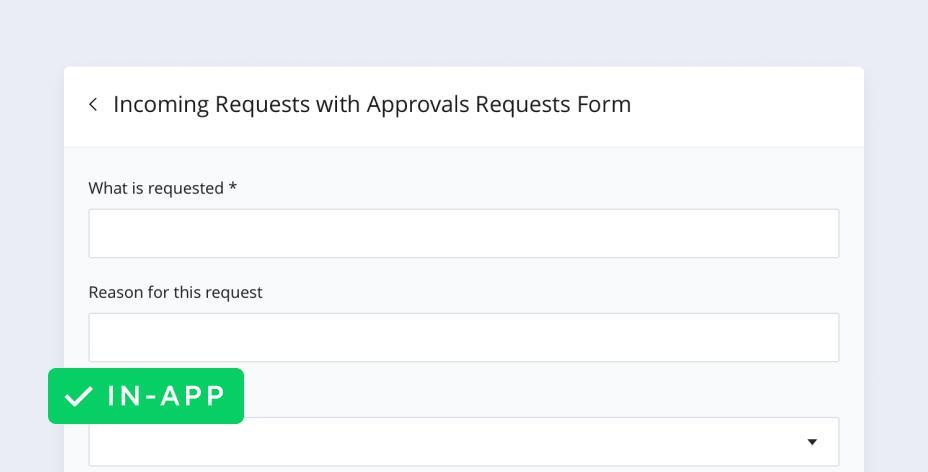button: (50, 368, 244, 426)
input: (90, 314, 840, 363), (90, 211, 842, 259)
label: (85, 283, 264, 303), (85, 179, 240, 202)
